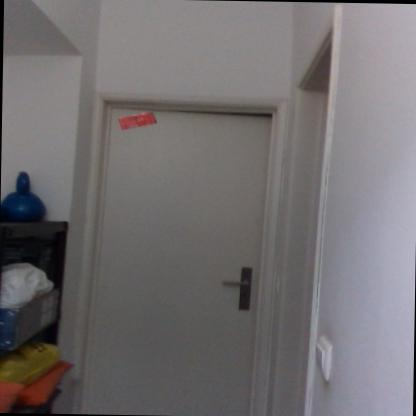closed: (61, 63, 306, 412)
